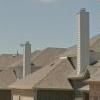Chimney: (71, 4, 96, 77)
